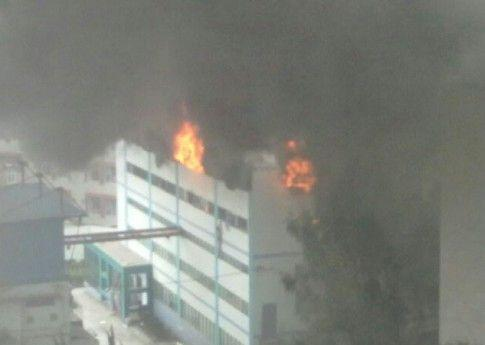fire: (169, 109, 214, 180)
fire1: (277, 139, 324, 197)
smoke: (23, 7, 477, 101)
